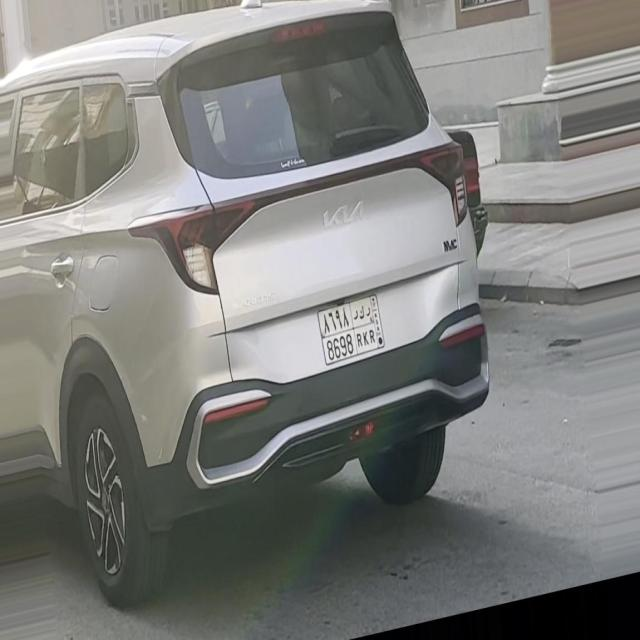Car-plate: (305, 286, 402, 371)
